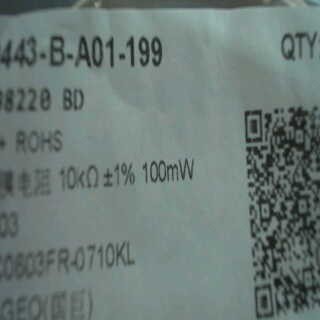10kR: (57, 162, 102, 193)
